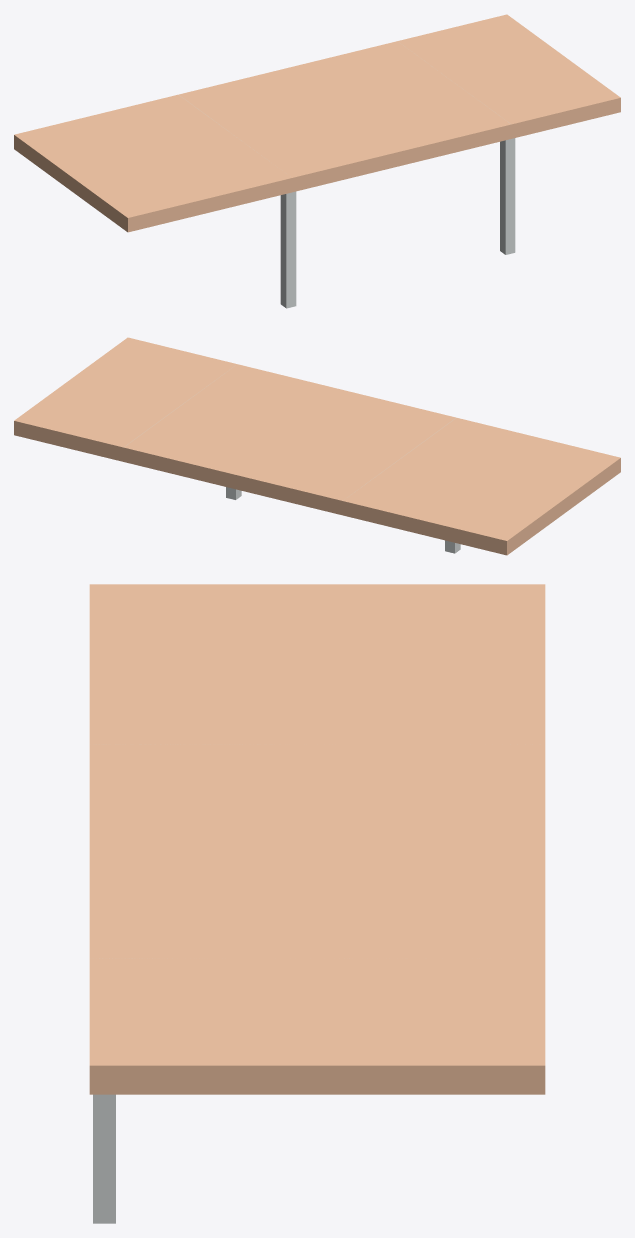
File: desk-row-d14.glb
3 views of the same model, one above another, from view 1: azimuth 30°, elevation 25°; view 2: azimuth 150°, elevation 25°; view 3: azimuth 270°, elevation 25° (orthographic). The views are drawn at different scales.
Visible parts, largest first — view 1: desktop, shared-corner-leg (×2); view 2: desktop; view 3: desktop, shared-corner-leg.
Boxes of the visible parts, x1=… form: desktop: x1=14, y1=14, x2=620, y2=232; shared-corner-leg (×2): x1=280, y1=138, x2=515, y2=308; desktop: x1=14, y1=337, x2=620, y2=555; desktop: x1=89, y1=584, x2=545, y2=1094; shared-corner-leg: x1=93, y1=1094, x2=115, y2=1223.
Bounding box in the file's own units: 5 × 1.26 × 2.
Materials: 1 (1 with a texture image).
